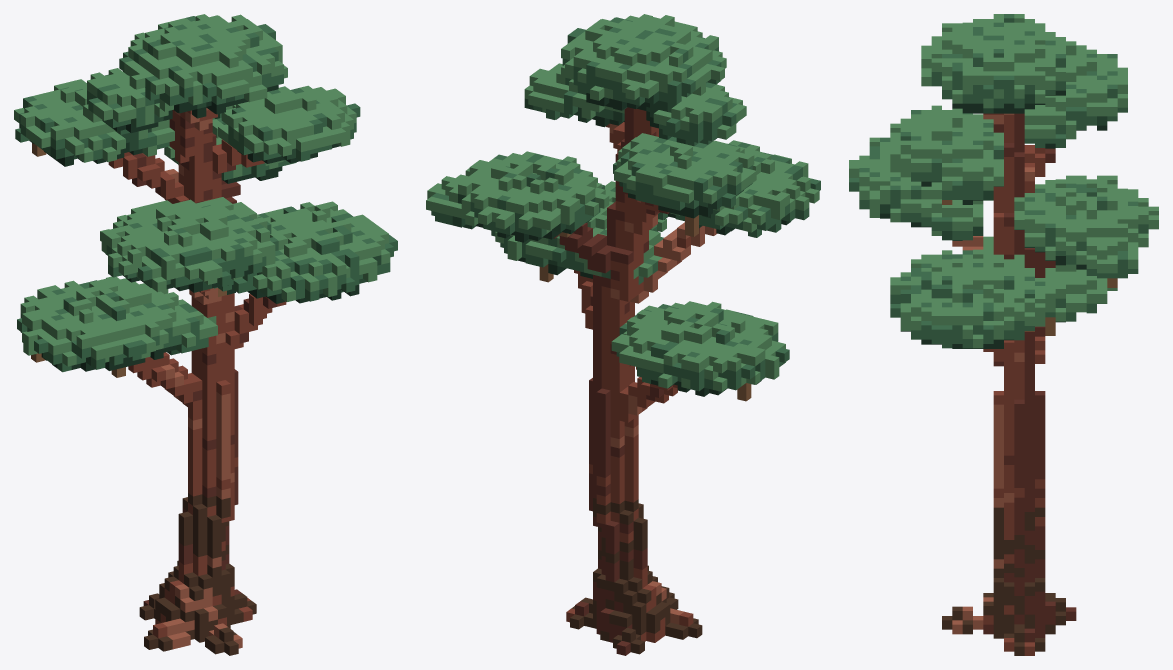
The model's file is Mountain_Pine.fbx.
3 renders of one model, left to right at view 1: azimuth 30°, elevation 25°; view 2: azimuth 150°, elevation 25°; view 3: azimuth 270°, elevation 25°, orthographic.
Visible parts, largest first — view 1: Mountain_Pine; view 2: Mountain_Pine; view 3: Mountain_Pine.
Boxes of the visible parts, left/top/right/bottom form: Mountain_Pine: left=14, top=14, right=397, bottom=655; Mountain_Pine: left=426, top=14, right=820, bottom=655; Mountain_Pine: left=849, top=14, right=1158, bottom=655.
Bounding box in the file's own units: 2.33 × 4.2 × 2.
1 material, 1 textured.
